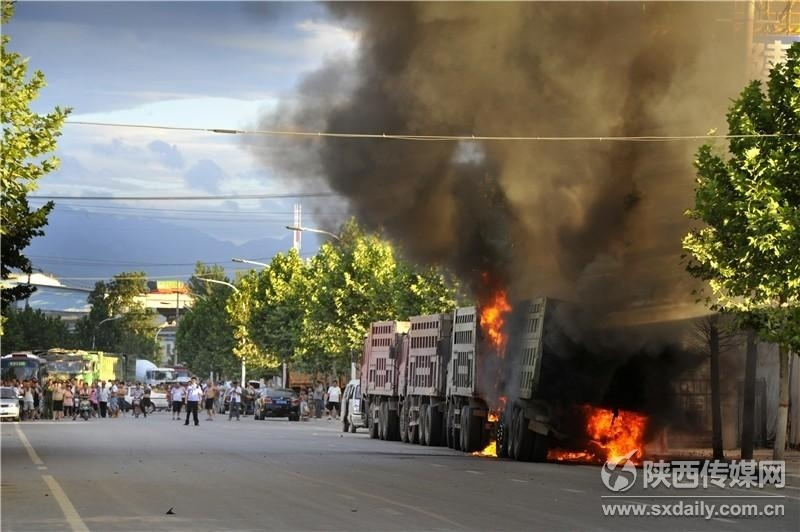fire: (551, 402, 650, 466), (479, 286, 515, 347)
